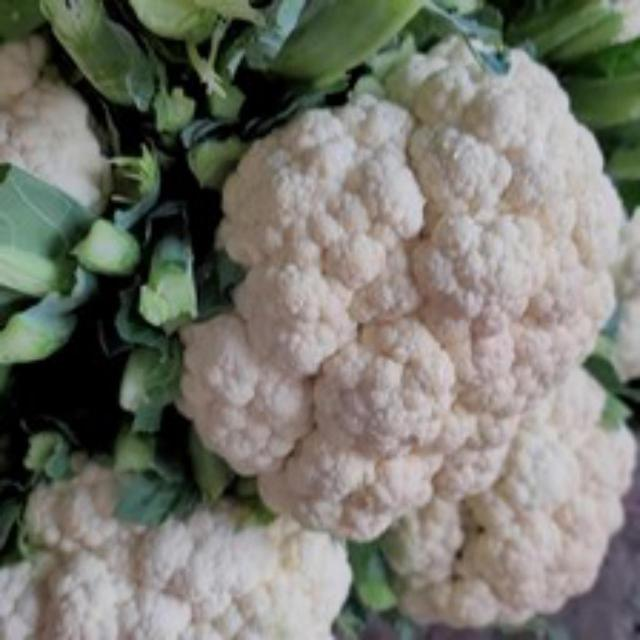cauliflower: (184, 22, 640, 540)
